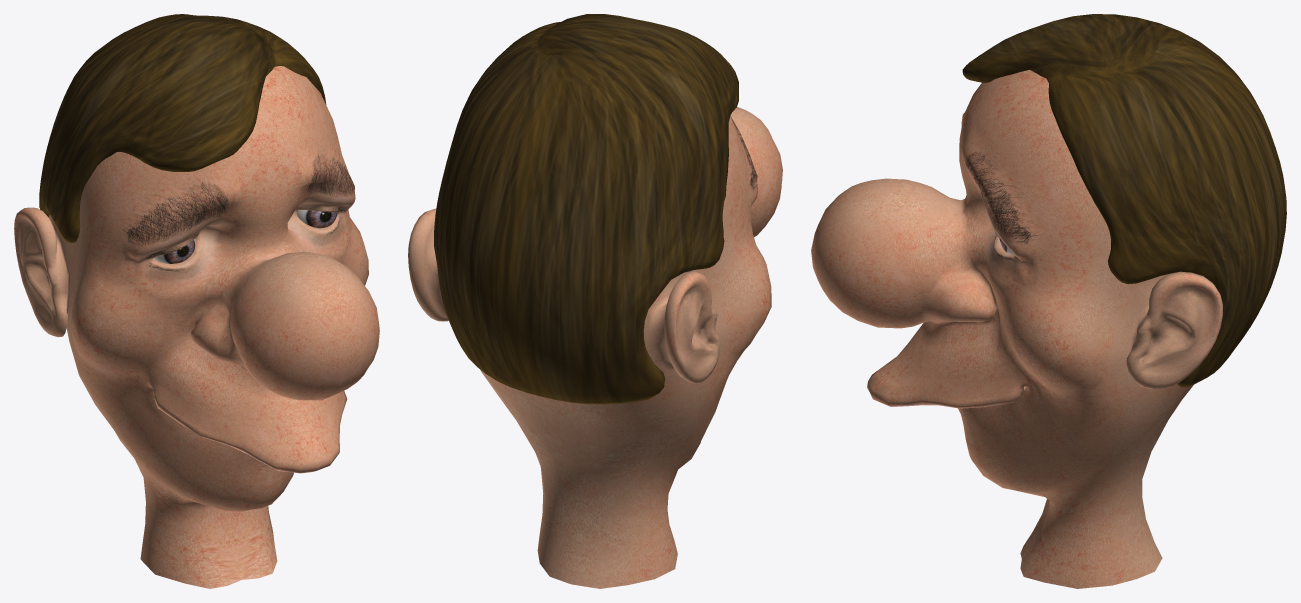
File: comic_head.glb
3 renders of one model, left to right at view 1: azimuth 30°, elevation 25°; view 2: azimuth 150°, elevation 25°; view 3: azimuth 270°, elevation 25°, orthographic. The views are drawn at different scales.
Parts seen in each view (by area): view 1: head, hair, eye_left, eye_right; view 2: hair, head; view 3: head, hair.
Part boxes in pixels (x1=…): head: x1=14, y1=66, x2=379, y2=588; hair: x1=39, y1=14, x2=326, y2=242; eye_left: x1=296, y1=210, x2=337, y2=228; eye_right: x1=153, y1=238, x2=195, y2=263; hair: x1=434, y1=14, x2=738, y2=404; head: x1=408, y1=107, x2=782, y2=588; head: x1=811, y1=70, x2=1222, y2=588; hair: x1=962, y1=14, x2=1286, y2=387.
Bounding box in the file's own units: 1.03 × 1.8 × 1.45.
Materials: 4 (4 with a texture image).
